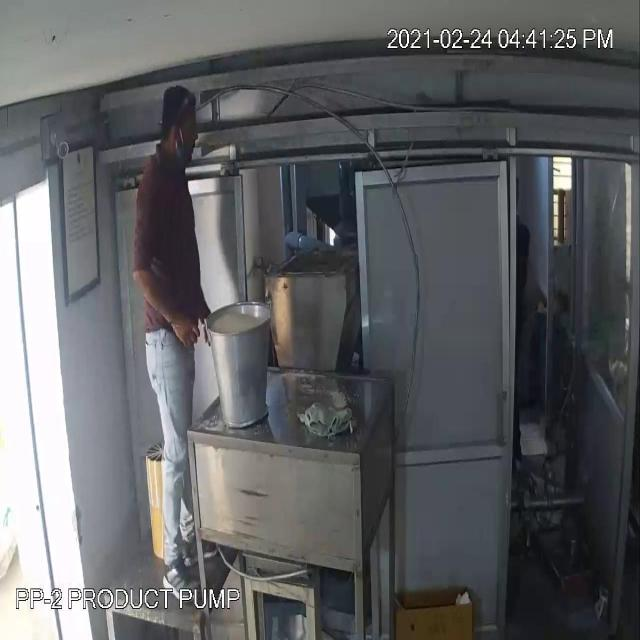no-helmet: (159, 84, 197, 146)
